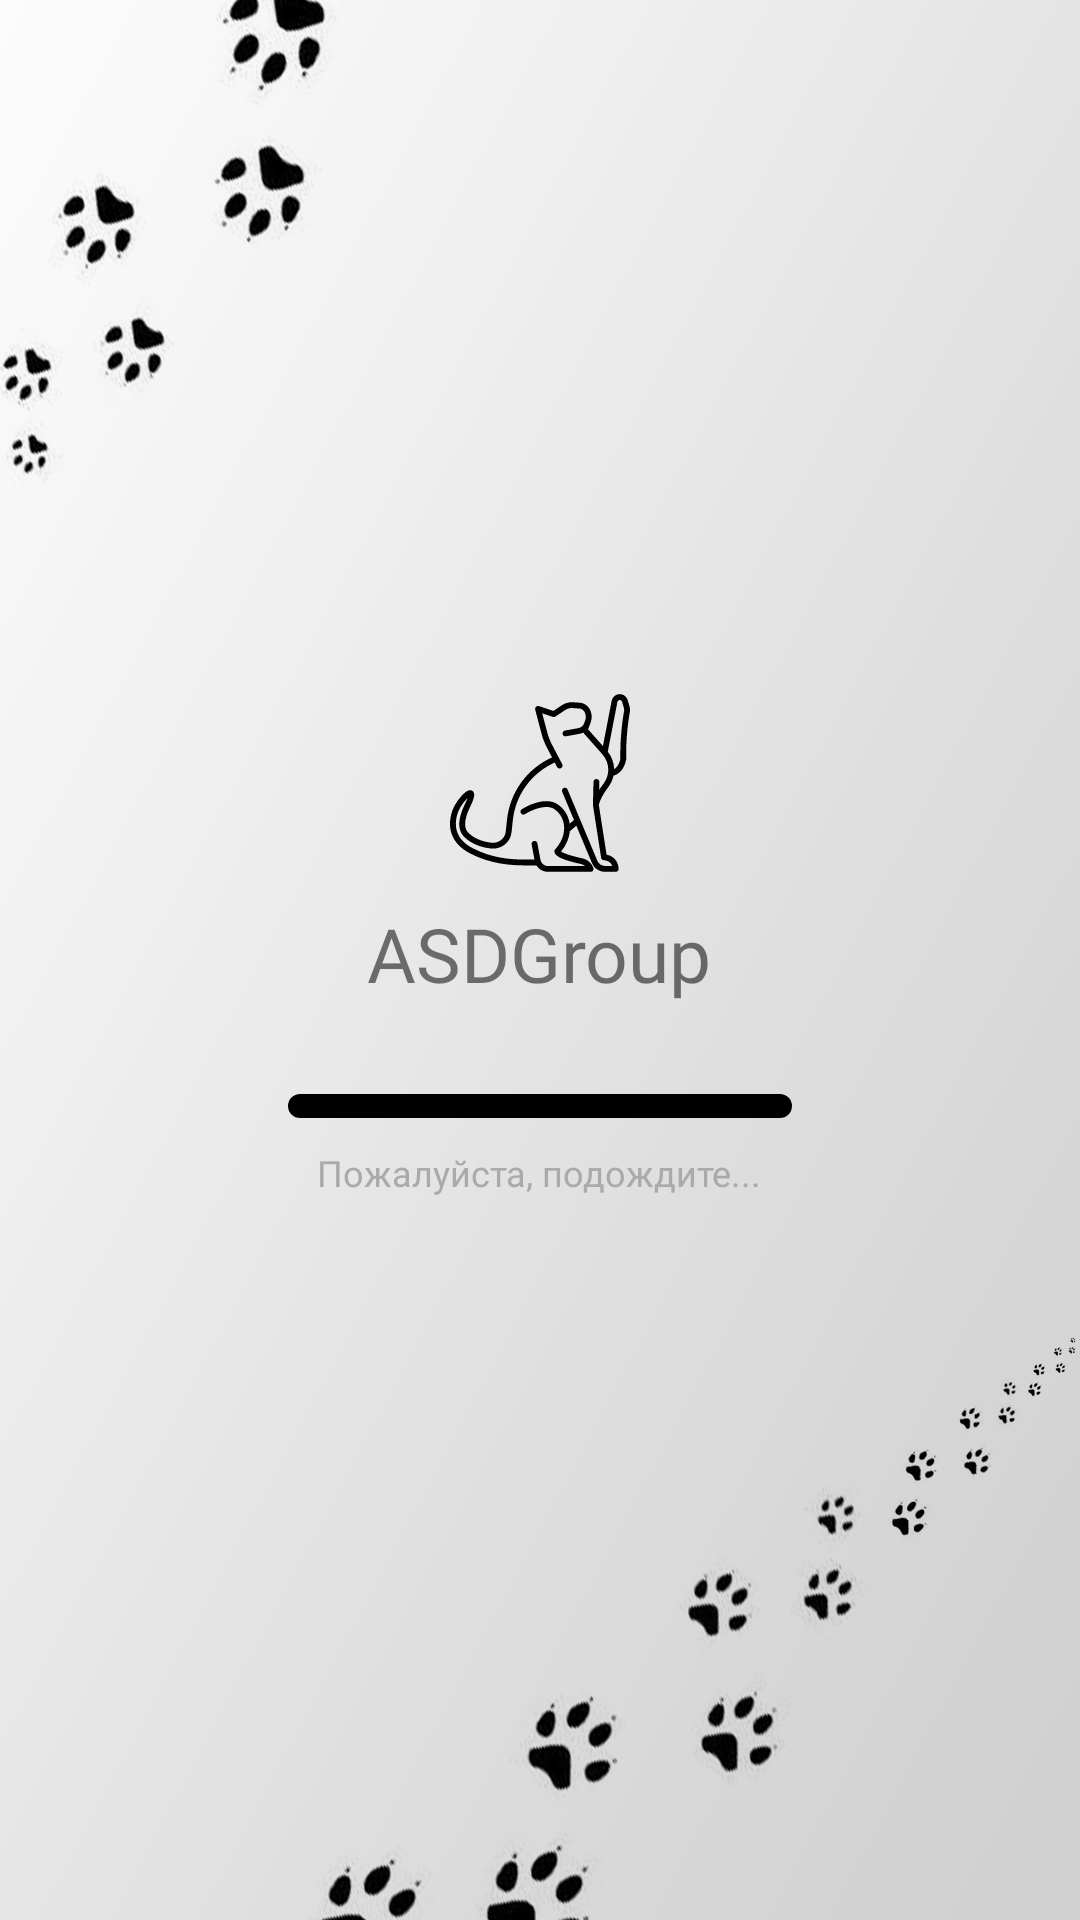

Where to tap for icons on this 1080 x 1920 app screen, as (x,y):
cat: (540,783)
